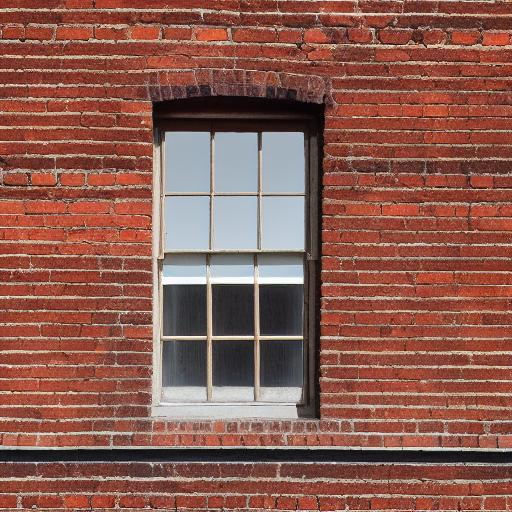Window: (149, 71, 327, 422)
